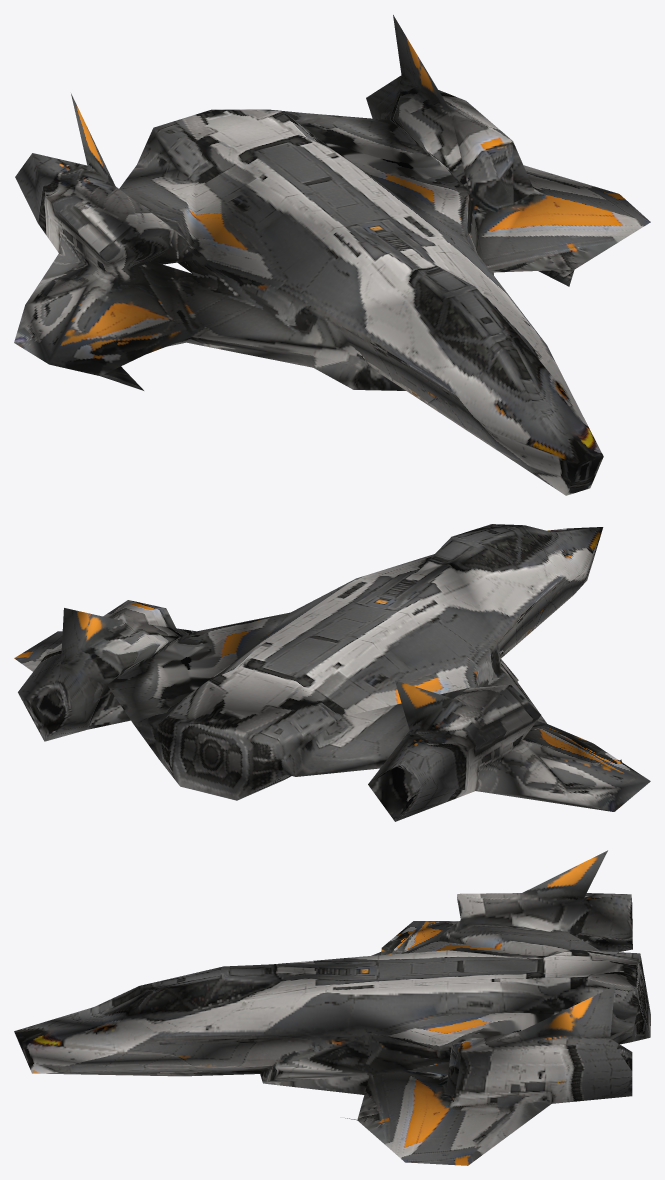
Rendered from tripo-rebaked-300.glb.
3 views of the same model, one above another, from view 1: azimuth 30°, elevation 25°; view 2: azimuth 150°, elevation 25°; view 3: azimuth 270°, elevation 25° (orthographic). The views are drawn at different scales.
Visible parts, largest first — view 1: Low; view 2: Low; view 3: Low.
Boxes of the visible parts, x1,y1,x2,y2 form: Low: (14, 15, 650, 495); Low: (14, 524, 650, 821); Low: (14, 850, 650, 1165).
Bounding box in the file's own units: 0.8881 × 0.2702 × 0.9774.
Materials: 1 (1 with a texture image).
